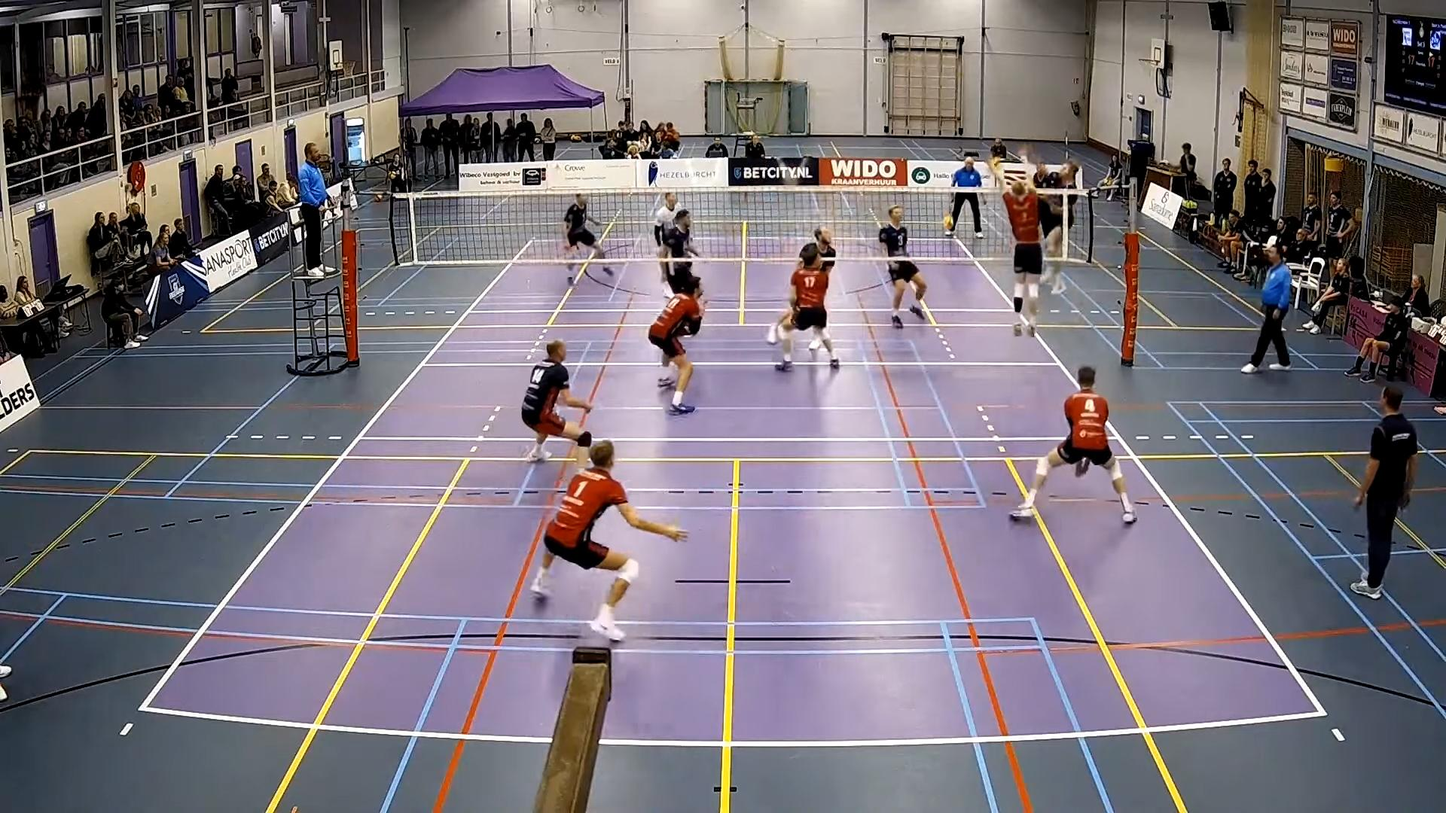Attack: (1035, 152, 1084, 296)
Block: (982, 158, 1054, 343)
Player: (531, 440, 686, 641), (1011, 367, 1136, 523), (521, 340, 591, 464), (776, 243, 839, 370), (648, 278, 702, 414), (878, 205, 926, 328), (563, 193, 606, 284), (660, 209, 700, 294), (653, 192, 677, 281), (654, 192, 677, 247), (813, 227, 836, 272)
